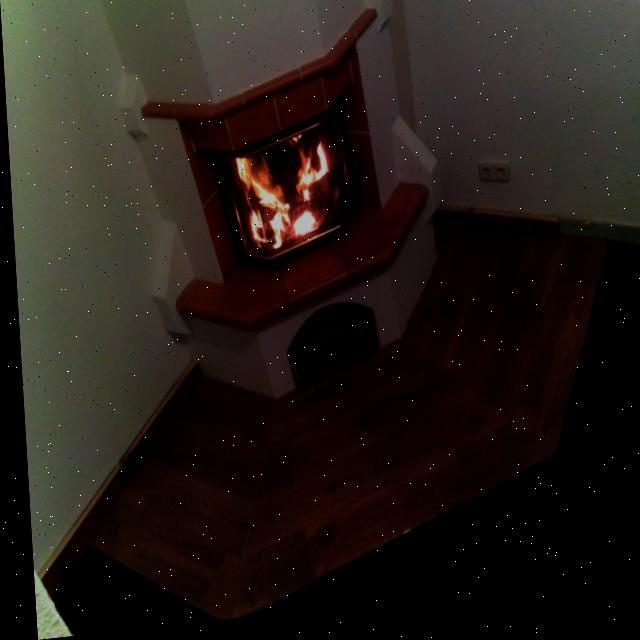Fire: (230, 134, 328, 254)
